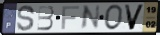B: (36, 5, 55, 32)
F: (61, 5, 81, 31)
N: (79, 4, 102, 32)
O: (104, 4, 125, 31)
S: (16, 4, 37, 33)
V: (123, 4, 146, 32)
